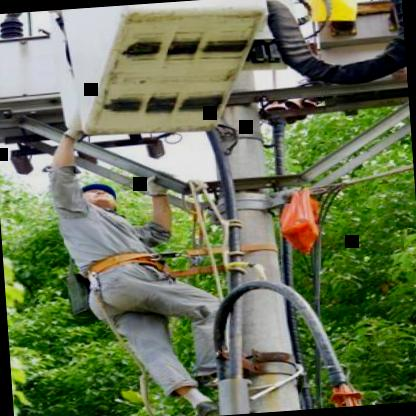helmet: (75, 179, 124, 215)
